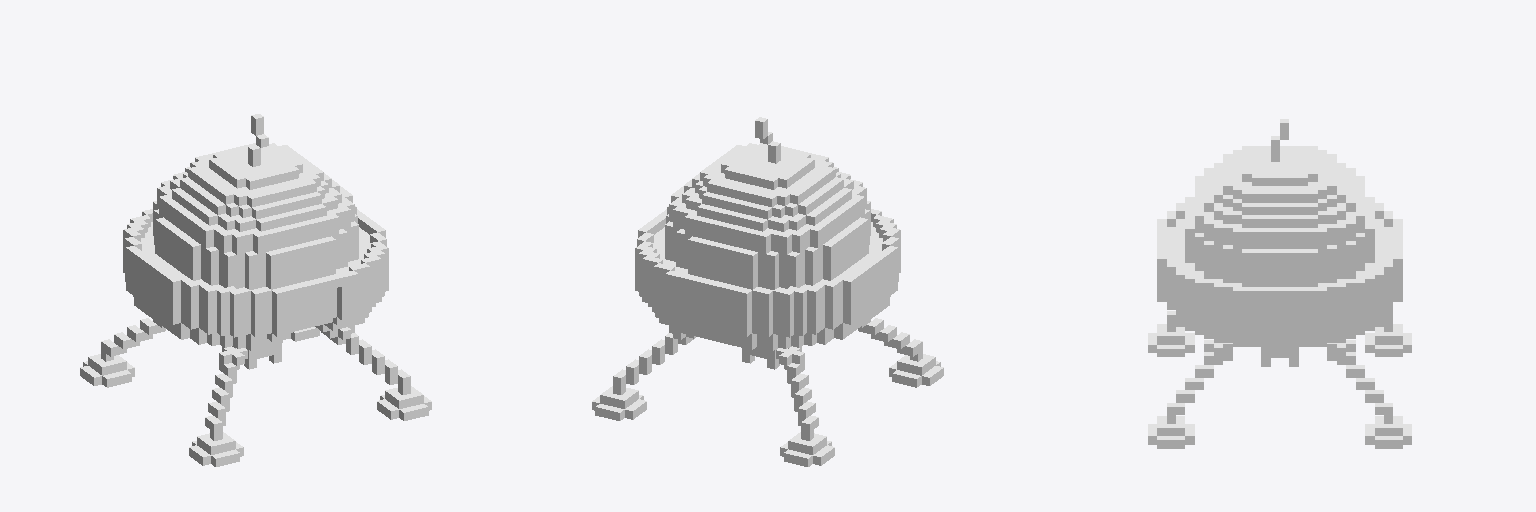
The model's file is grinch_lander.obj.
3 renders of one model, left to right at view 1: azimuth 30°, elevation 25°; view 2: azimuth 150°, elevation 25°; view 3: azimuth 270°, elevation 25°, orthographic.
Parts seen in each view (by area): view 1: object 1; view 2: object 1; view 3: object 1.
Part boxes in pixels (left/top/right/bottom): object 1: left=80, top=114, right=431, bottom=466; object 1: left=592, top=117, right=943, bottom=466; object 1: left=1148, top=119, right=1411, bottom=448.
Bounding box in the file's own units: 2.8 × 3.2 × 2.8.